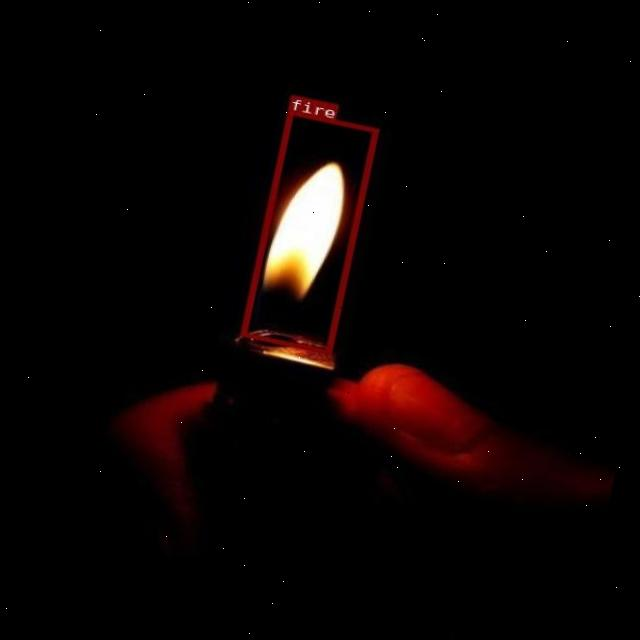fire: (239, 109, 377, 354)
